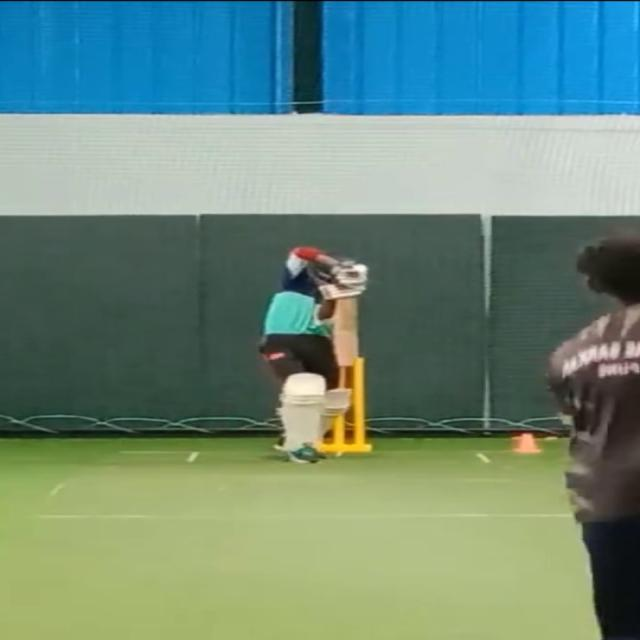stump: (330, 353, 374, 457)
